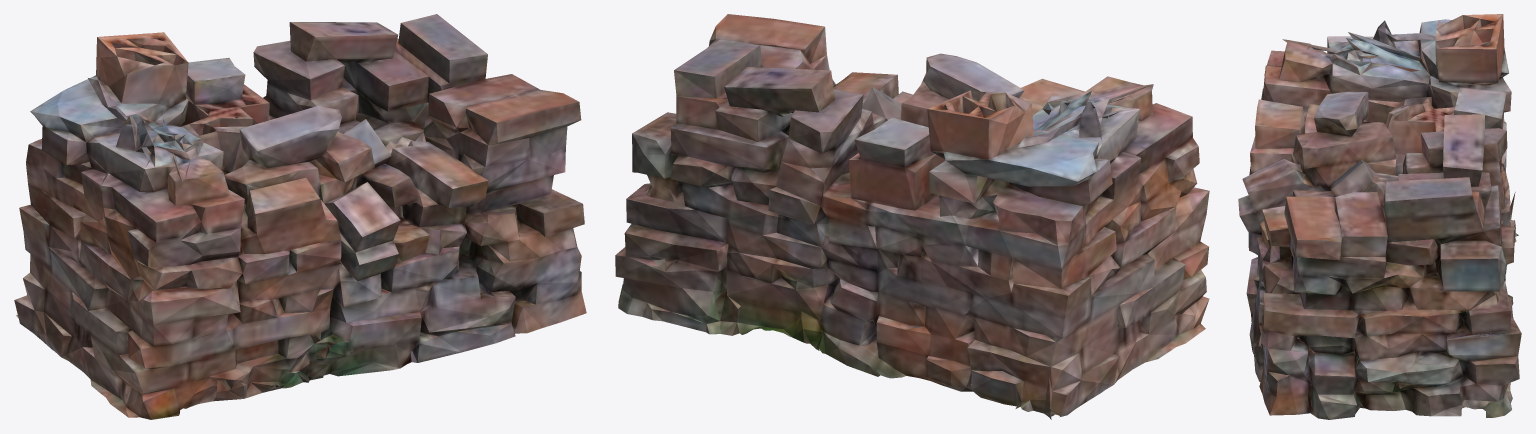
The model's file is bricks.glb.
The picture shows the model from 3 angles, left to right: view 1: azimuth 30°, elevation 25°; view 2: azimuth 150°, elevation 25°; view 3: azimuth 270°, elevation 25°; orthographic projection. The views are drawn at different scales.
Parts seen in each view (by area): view 1: Stack of Bricks; view 2: Stack of Bricks; view 3: Stack of Bricks.
Part boxes in pixels (left/top/right/bottom): Stack of Bricks: left=14, top=14, right=586, bottom=419; Stack of Bricks: left=615, top=14, right=1209, bottom=419; Stack of Bricks: left=1238, top=14, right=1521, bottom=419.
Bounding box in the file's own units: 3.41 × 1.91 × 2.01.
Materials: 1 (1 with a texture image).
